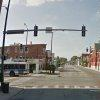Crosswalk: (19, 80, 91, 97)
